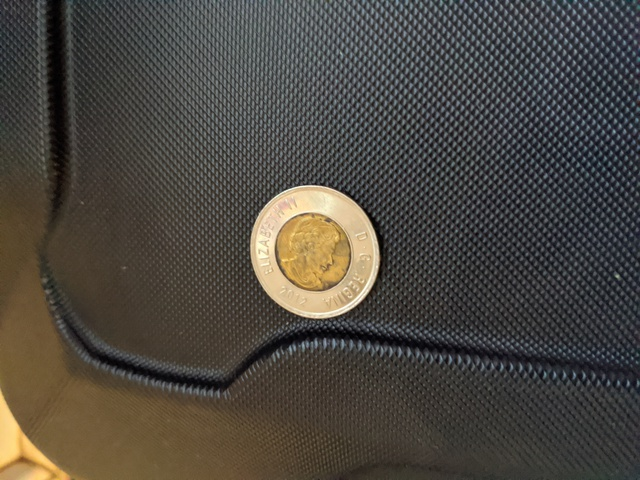twonie: (238, 180, 383, 327)
